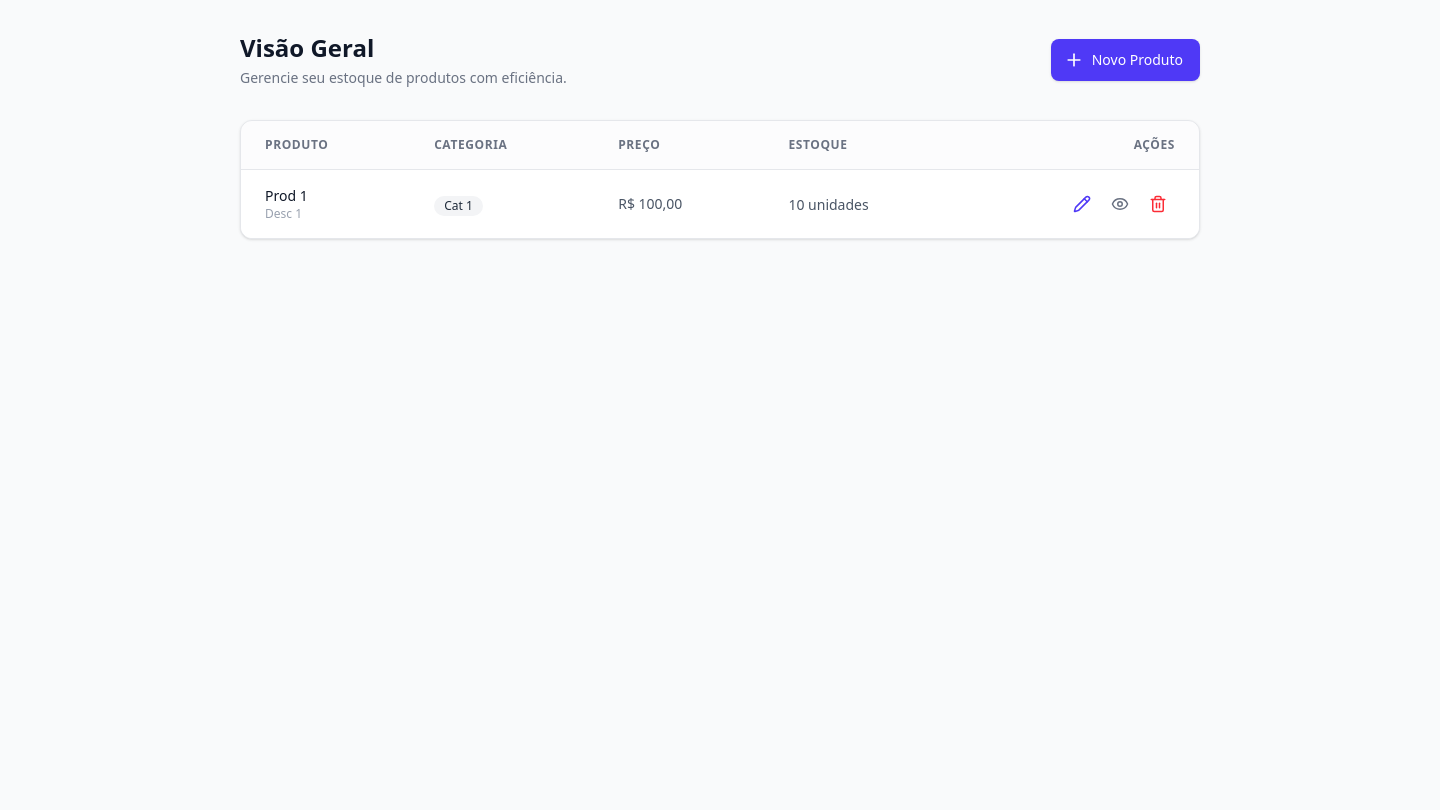
Scenario: ProductManager Page › shows error toast when delete fails
Finds delete button and clicks
Click the button titled "Excluir". click: (1158, 204)
box: [1141,187,1175,221]
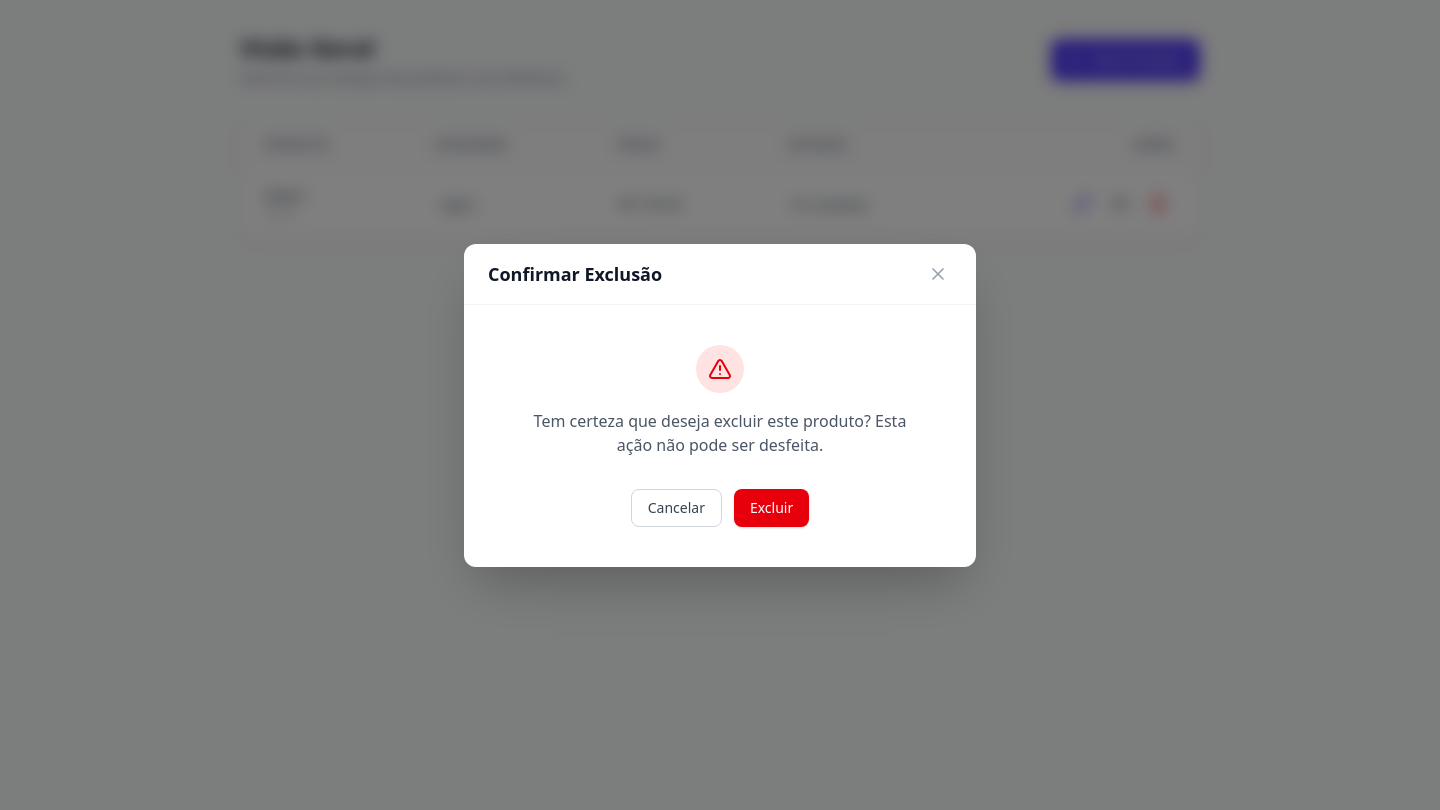
Expected: the heading "Confirmar Exclusão" is shown, [488,260,662,288]
Confirm delete
Click the button "Excluir". click: (772, 508)
box: [734,488,809,526]
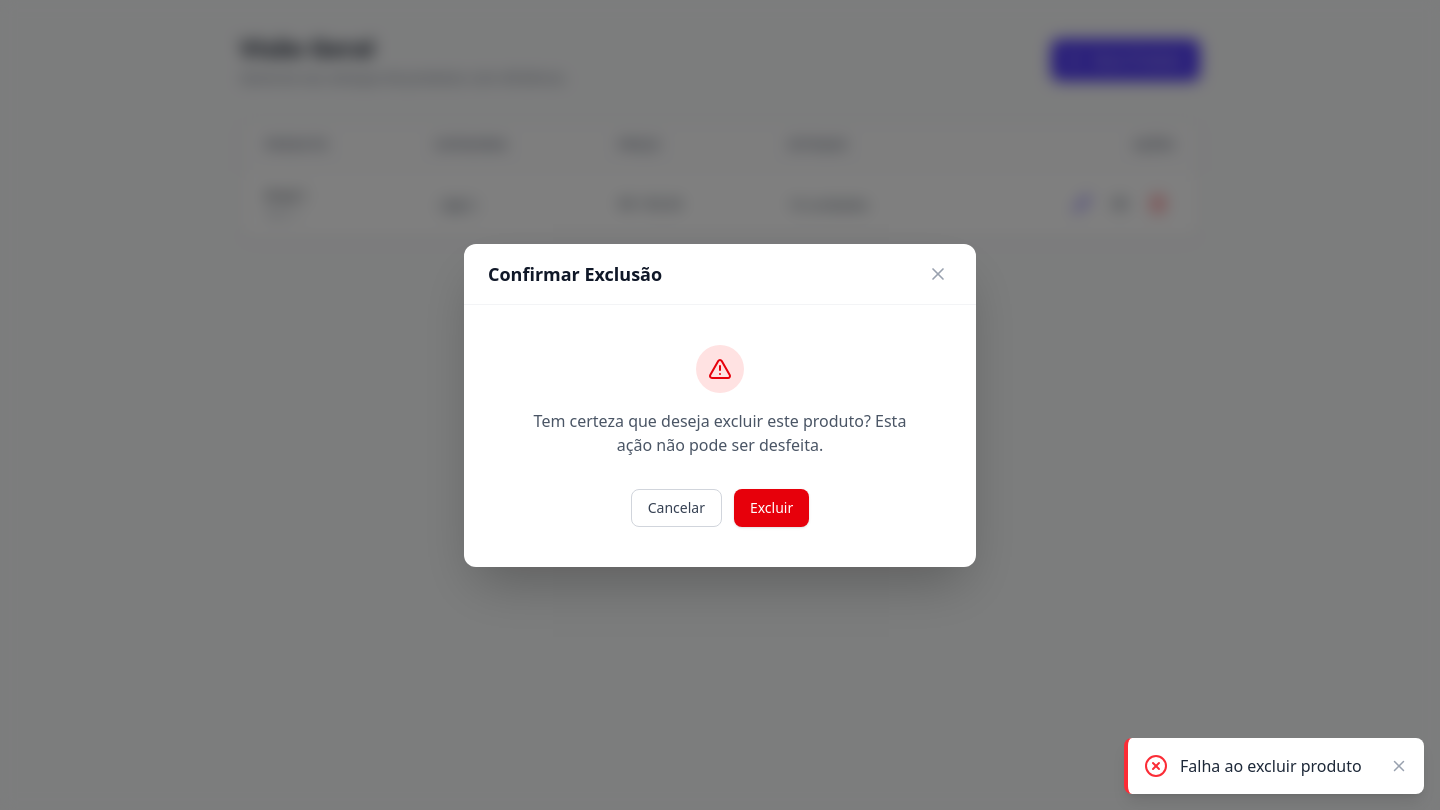
Expected: the text "Falha ao excluir produto" is shown, [1180,754,1374,778]
